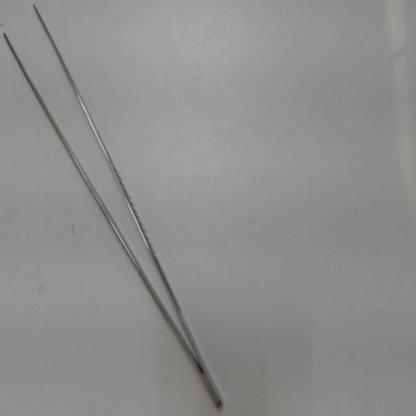DeBakey Dissector: (3, 1, 239, 413)
